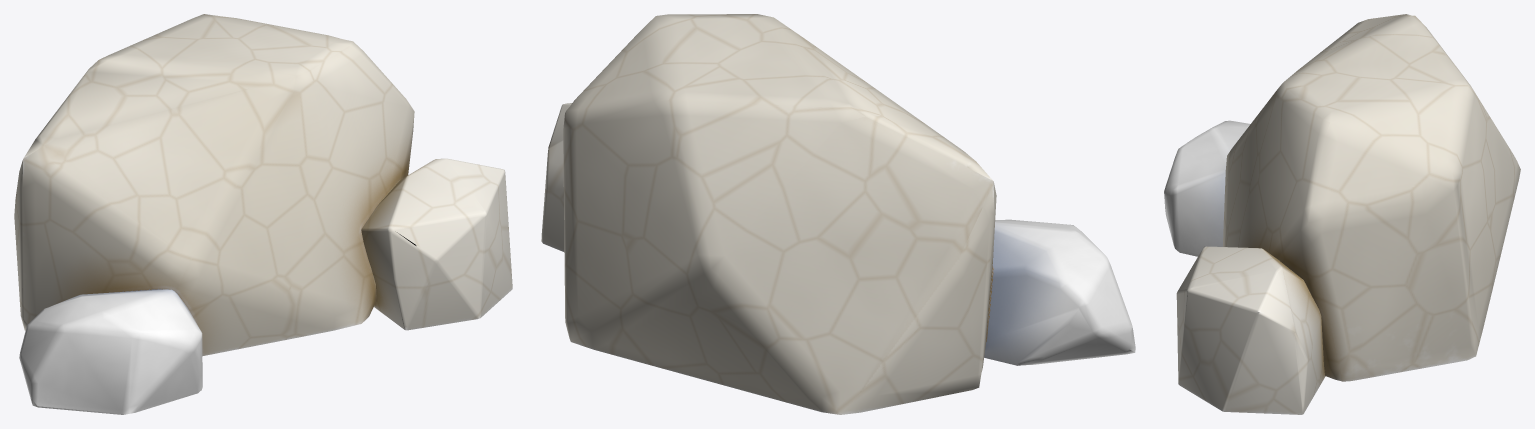
File: Divin_Rocher.fbx
3 views of the same model, side by side, from view 1: azimuth 30°, elevation 25°; view 2: azimuth 150°, elevation 25°; view 3: azimuth 270°, elevation 25° (orthographic). The views are drawn at different scales.
Parts seen in each view (by area): view 1: Divin_Rocher; view 2: Divin_Rocher; view 3: Divin_Rocher.
Boxes of the visible parts, x1,y1,x2,y2 form: Divin_Rocher: (14, 14, 512, 414); Divin_Rocher: (541, 14, 1135, 414); Divin_Rocher: (1164, 14, 1520, 414).
Size of the model in its own units: 1083 by 519 by 683.
1 material, 1 textured.
